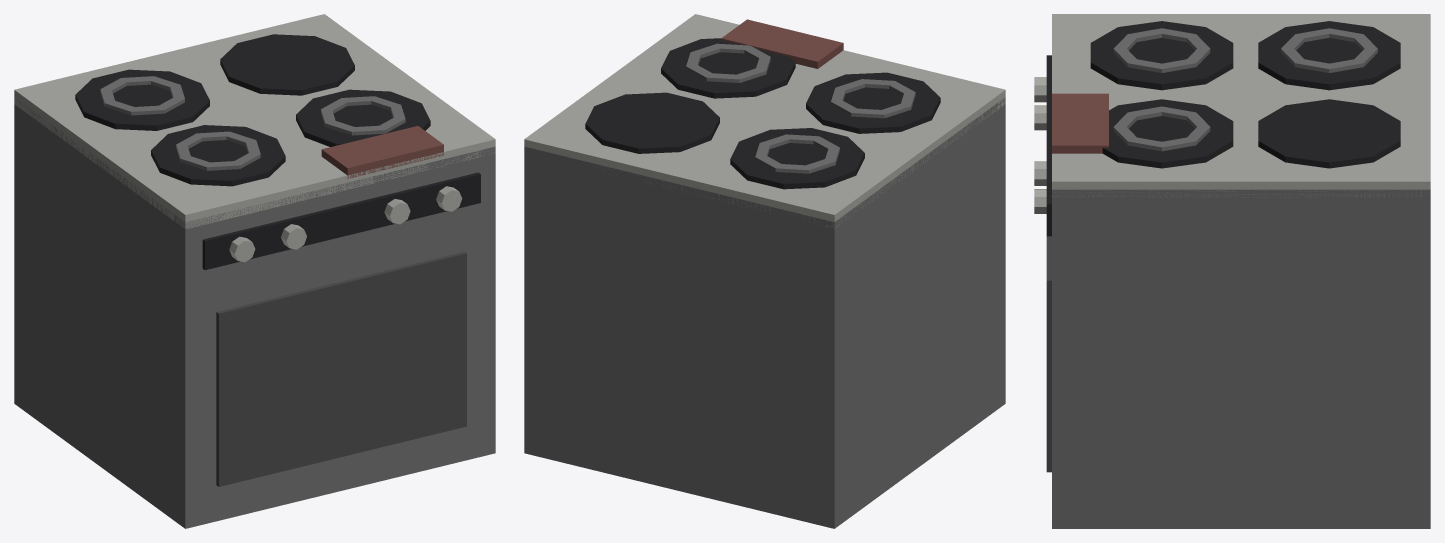
File: oc_stove.obj
The picture shows the model from 3 angles, left to right: view 1: azimuth 30°, elevation 25°; view 2: azimuth 150°, elevation 25°; view 3: azimuth 270°, elevation 25°; orthographic projection. The views are drawn at different scales.
Parts seen in each view (by area): view 1: oc_stove_0, oc_stove_14, oc_stove_1, oc_stove_9, oc_stove_4, oc_stove_5, oc_stove_2, oc_stove_7, oc_stove_15, oc_stove_8, oc_stove_6, oc_stove_3; view 2: oc_stove_0, oc_stove_1, oc_stove_4, oc_stove_2, oc_stove_5, oc_stove_7, oc_stove_15, oc_stove_8, oc_stove_6, oc_stove_3; view 3: oc_stove_0, oc_stove_1, oc_stove_4, oc_stove_5, oc_stove_2, oc_stove_7, oc_stove_15, oc_stove_6, oc_stove_3, oc_stove_8, oc_stove_14, oc_stove_9.
Part boxes in pixels (x1,y1,x2,y2): oc_stove_0: [14, 99, 495, 528]; oc_stove_14: [216, 251, 466, 486]; oc_stove_1: [14, 14, 495, 229]; oc_stove_9: [202, 172, 480, 270]; oc_stove_4: [220, 34, 354, 95]; oc_stove_5: [151, 125, 285, 186]; oc_stove_2: [75, 69, 209, 130]; oc_stove_7: [296, 89, 430, 146]; oc_stove_15: [321, 126, 443, 178]; oc_stove_8: [321, 96, 405, 135]; oc_stove_6: [176, 131, 260, 170]; oc_stove_3: [100, 76, 184, 115]; oc_stove_0: [524, 97, 1005, 528]; oc_stove_1: [524, 14, 1005, 228]; oc_stove_4: [585, 92, 719, 153]; oc_stove_2: [730, 128, 864, 189]; oc_stove_5: [806, 72, 940, 133]; oc_stove_7: [661, 38, 795, 98]; oc_stove_15: [721, 19, 843, 68]; oc_stove_8: [686, 43, 770, 82]; oc_stove_6: [831, 79, 915, 118]; oc_stove_3: [755, 134, 839, 173]; oc_stove_0: [1052, 189, 1430, 528]; oc_stove_1: [1052, 14, 1430, 197]; oc_stove_4: [1258, 99, 1400, 168]; oc_stove_5: [1090, 21, 1233, 90]; oc_stove_2: [1258, 21, 1400, 90]; oc_stove_7: [1102, 99, 1233, 168]; oc_stove_15: [1052, 93, 1108, 153]; oc_stove_6: [1113, 28, 1210, 72]; oc_stove_3: [1281, 28, 1377, 72]; oc_stove_8: [1113, 106, 1210, 151]; oc_stove_14: [1046, 236, 1051, 472]; oc_stove_9: [1046, 55, 1051, 236].
Size of the model in its own units: 0.9 by 0.895 by 0.9.
